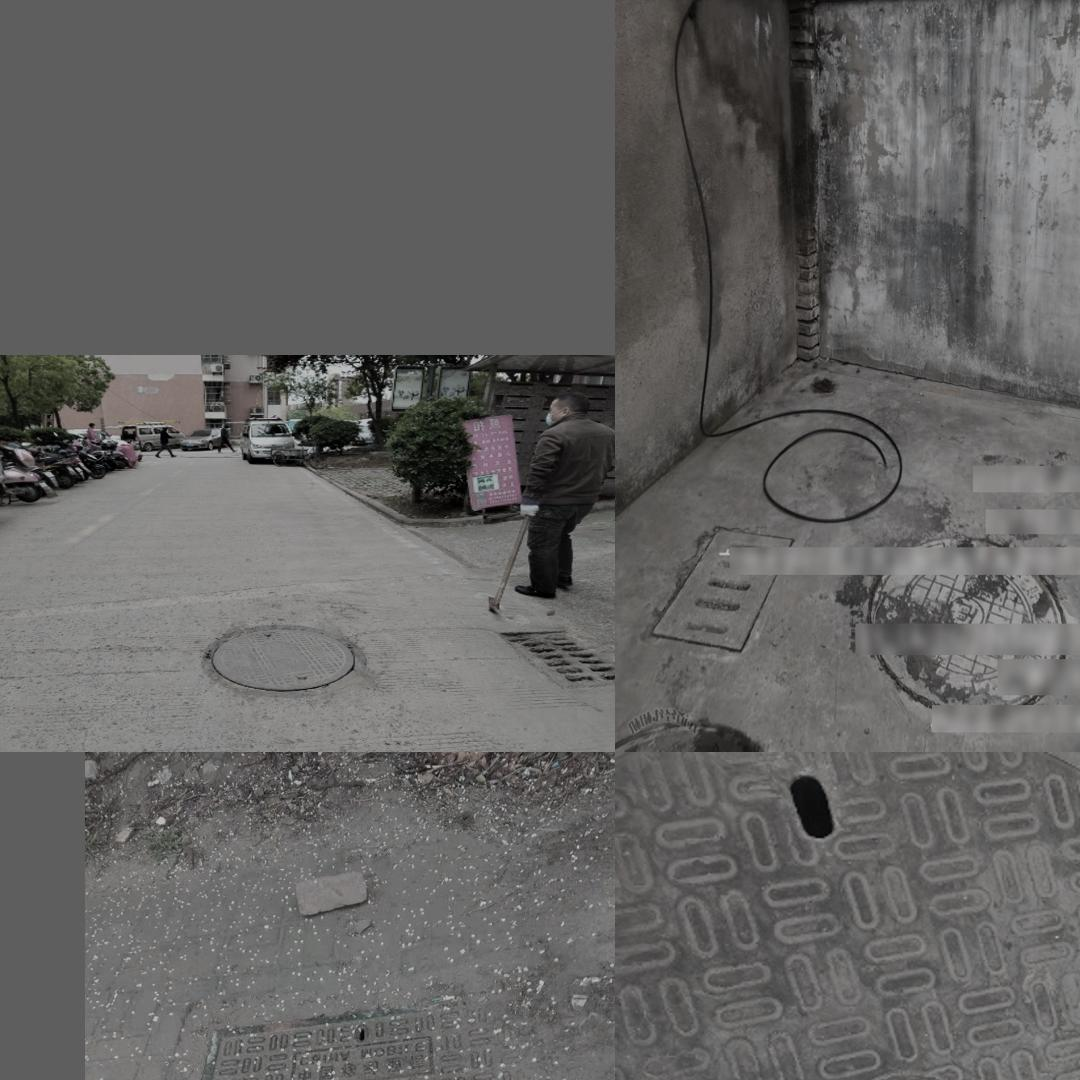good: (627, 753, 1080, 1080), (861, 536, 1078, 723), (166, 996, 579, 1080), (202, 624, 365, 696)
